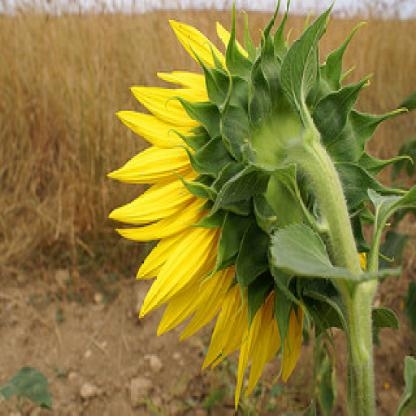SUN FLOWER: (113, 14, 381, 390)
